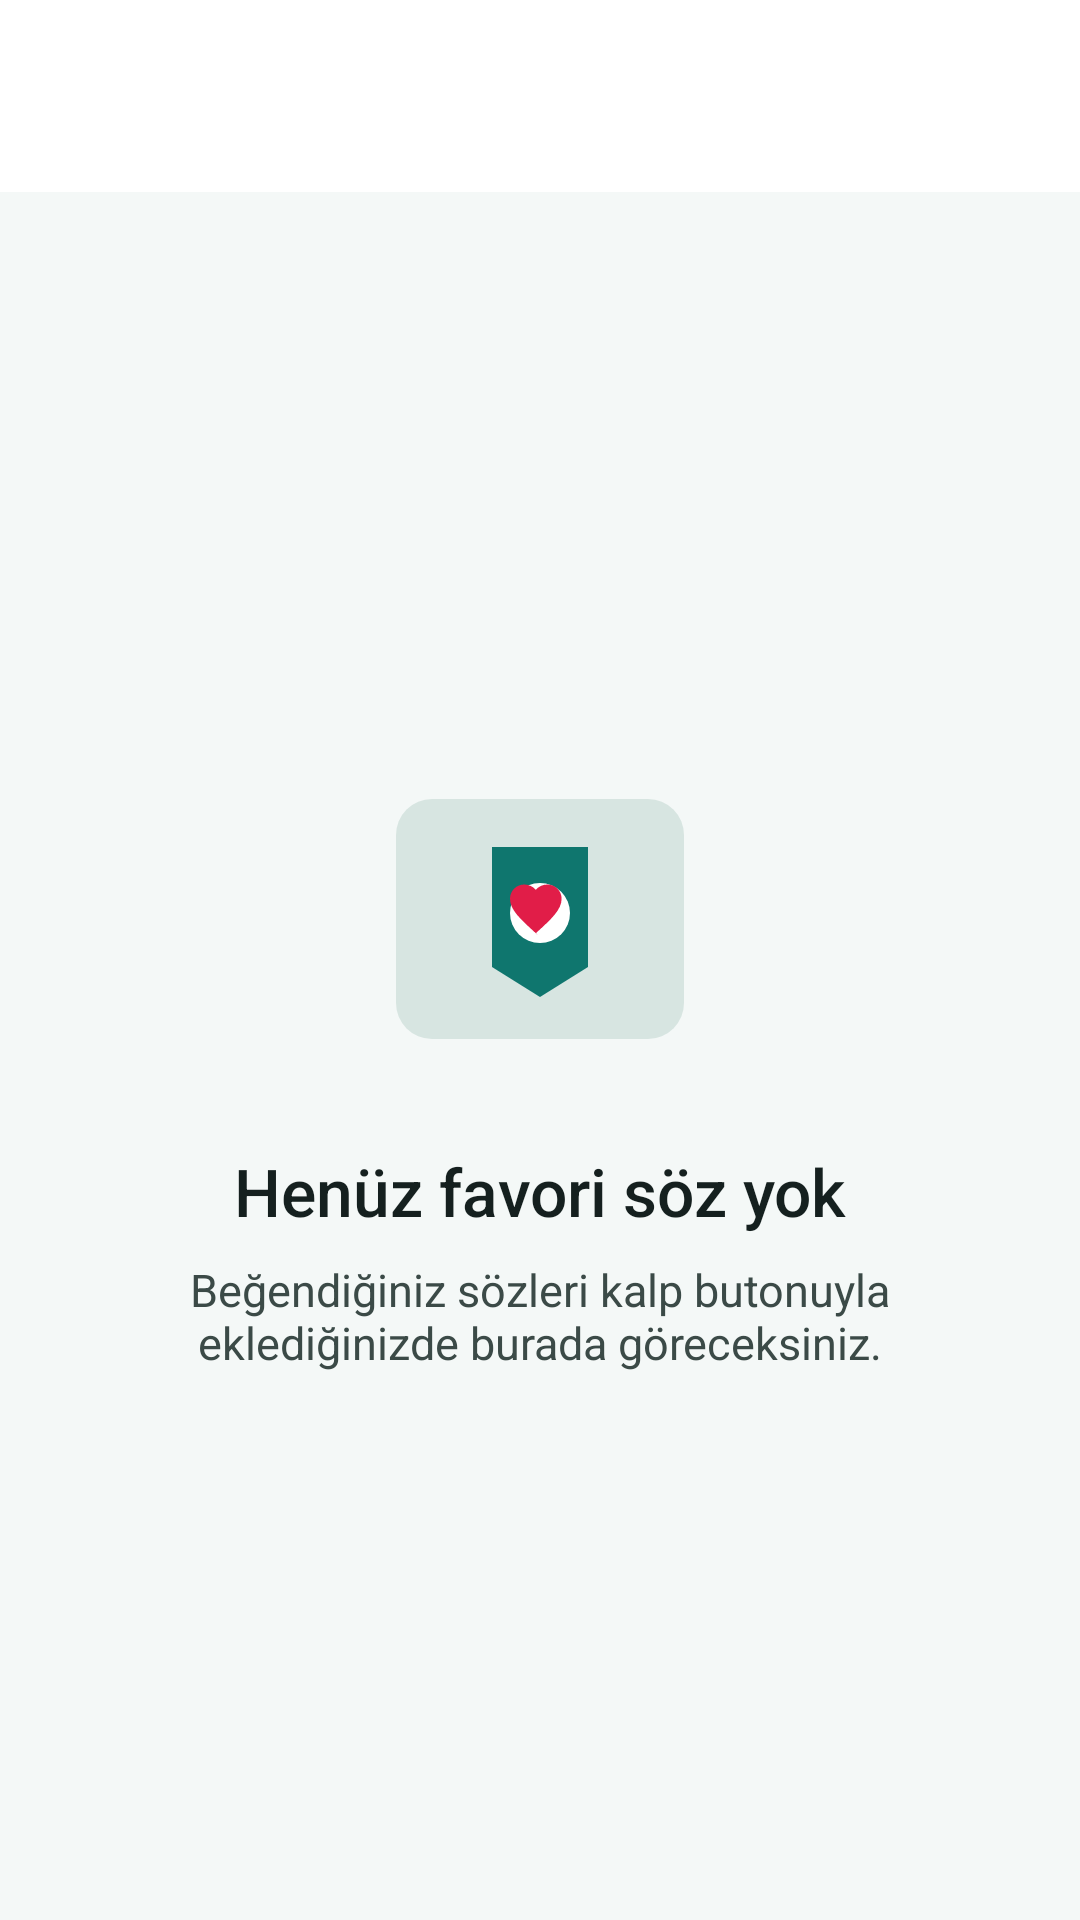

Icons on this 1080x1920 Android screen, each with the point to tap as (x=x, y=y):
empty favorites: (x=540, y=919)
